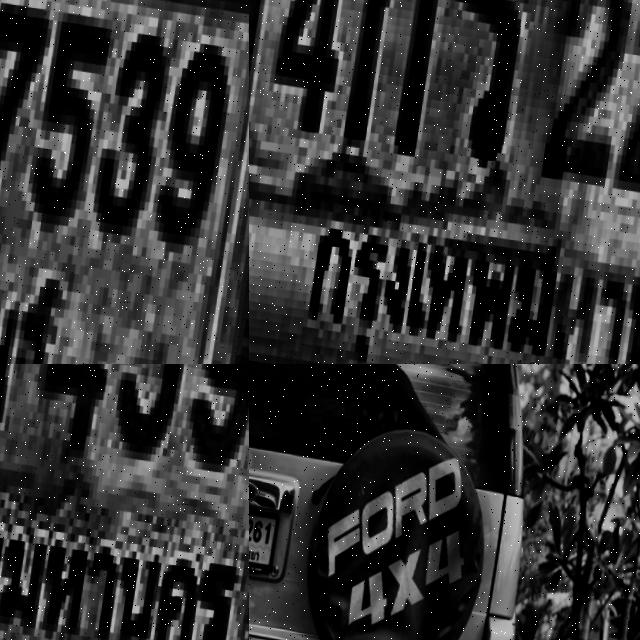license-plate: (249, 0, 640, 364), (0, 0, 249, 364), (0, 364, 249, 640), (249, 496, 282, 572)
